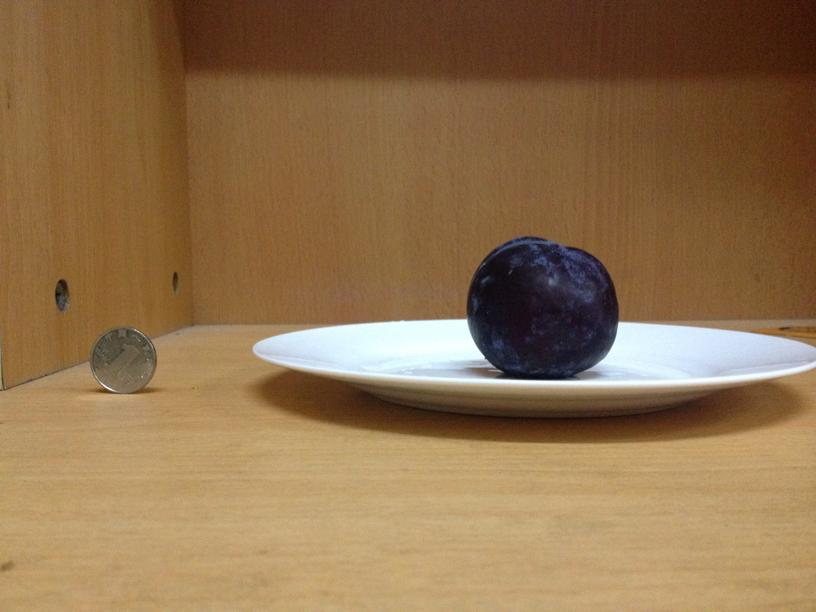coin: (87, 323, 159, 394)
plum: (470, 234, 621, 378)
